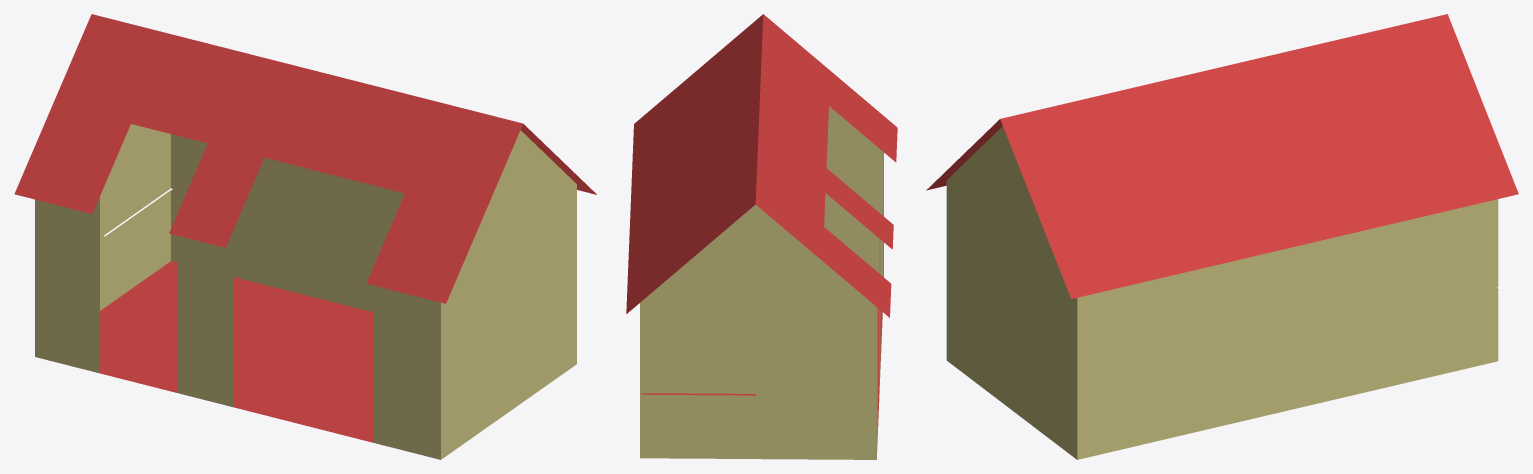
The picture shows the model from 3 angles, left to right: view 1: azimuth 30°, elevation 25°; view 2: azimuth 150°, elevation 25°; view 3: azimuth 270°, elevation 25°; orthographic projection. The views are drawn at different scales.
Bounding box in the file's own units: 25.17 × 29.25 × 16.09.
